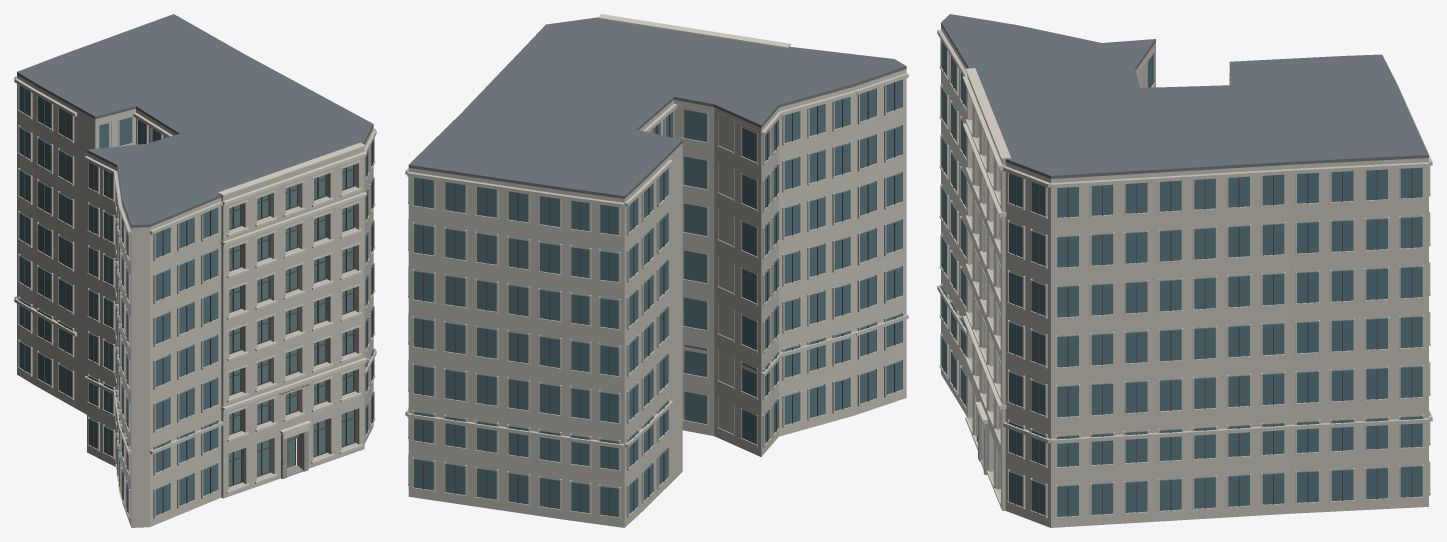
File: con-exterior-ae8778966c3d.glb
3 renders of one model, left to right at view 1: azimuth 30°, elevation 25°; view 2: azimuth 150°, elevation 25°; view 3: azimuth 270°, elevation 25°, orthographic. The views are drawn at different scales.
Parts seen in each view (by area): view 1: CON.001; view 2: CON.001; view 3: CON.001.
Part boxes in pixels (box(x1,y1,x2,y2)): CON.001: box(14, 14, 376, 527); CON.001: box(405, 14, 908, 527); CON.001: box(937, 14, 1432, 527).
Size of the model in its own units: 29.43 by 29.36 by 37.3.
